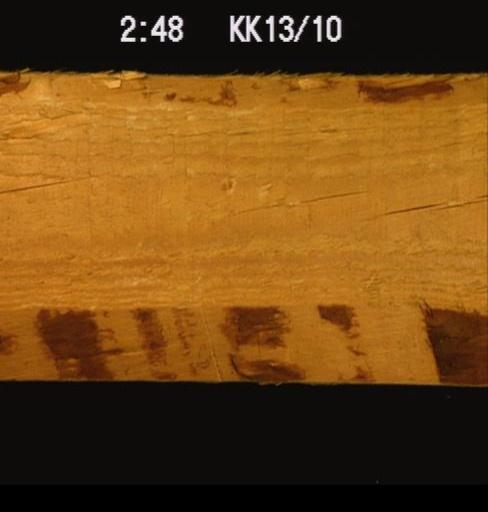split: (226, 183, 364, 210), (0, 165, 118, 196), (370, 192, 484, 219)
wave: (0, 304, 486, 388), (0, 72, 486, 103)
